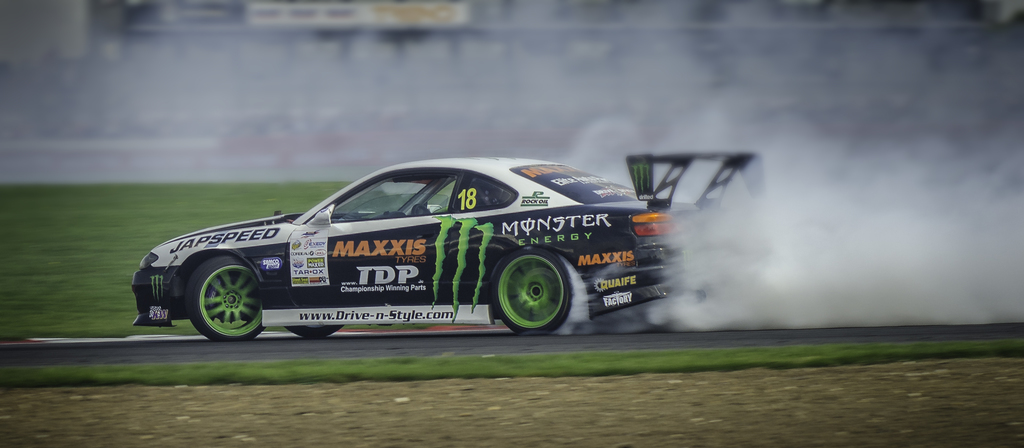Car: (131, 148, 766, 342)
